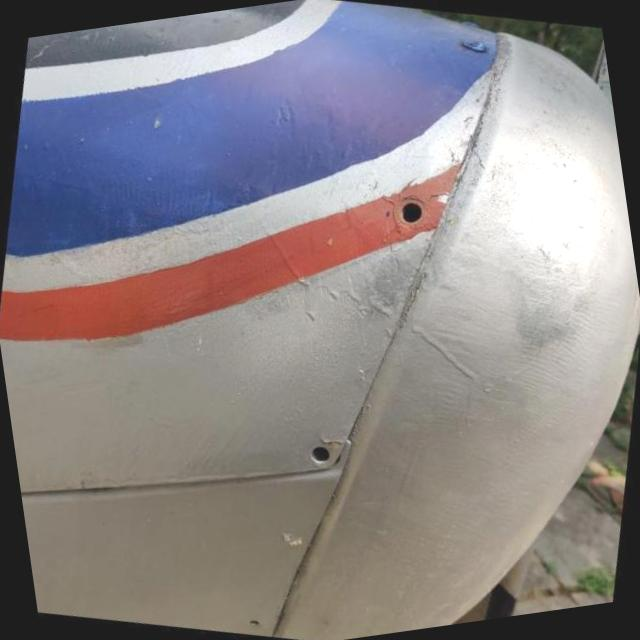Missing Fastener: (306, 438, 342, 468), (236, 608, 269, 639), (397, 196, 424, 223)
